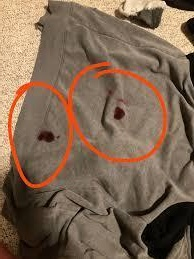ink: (38, 130, 56, 143), (115, 106, 126, 120)
